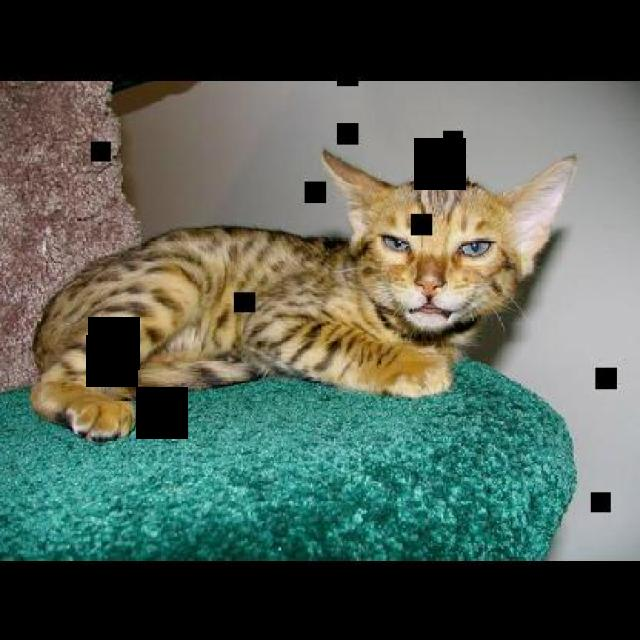unauthorized: (28, 148, 577, 442)
